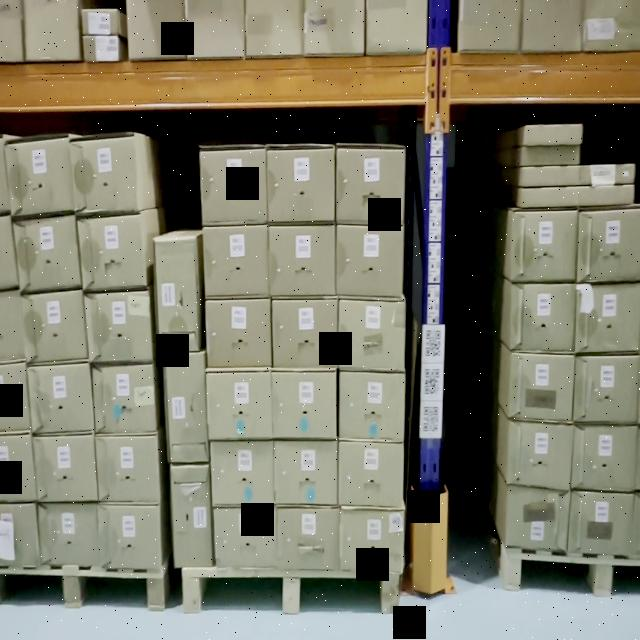box: (268, 150, 334, 220), (165, 355, 208, 460), (202, 152, 266, 222), (337, 152, 402, 220), (578, 210, 640, 280), (75, 136, 133, 210), (271, 228, 335, 294), (339, 228, 401, 296), (339, 301, 404, 365), (81, 222, 146, 286), (340, 372, 402, 439), (206, 302, 270, 366), (574, 358, 638, 422), (206, 228, 266, 296), (160, 238, 196, 350), (273, 303, 336, 367), (512, 286, 575, 350), (274, 372, 336, 436), (276, 441, 338, 505), (94, 367, 156, 431), (210, 372, 270, 438), (90, 293, 148, 361), (11, 145, 72, 209), (34, 362, 89, 432), (23, 217, 75, 291), (515, 214, 575, 278), (578, 285, 638, 349), (100, 506, 160, 570), (514, 355, 572, 420), (212, 443, 273, 503), (342, 510, 402, 570), (36, 438, 96, 498), (277, 511, 339, 569), (340, 445, 402, 502), (576, 427, 633, 489), (572, 492, 628, 554), (100, 437, 156, 499), (508, 428, 572, 482), (217, 508, 274, 568), (25, 298, 83, 356), (510, 488, 564, 550), (176, 466, 208, 566), (43, 504, 95, 562), (0, 504, 34, 564), (0, 434, 30, 501), (0, 362, 25, 430), (1, 294, 20, 359), (524, 125, 582, 144), (524, 190, 578, 207), (578, 188, 634, 204), (522, 146, 578, 162), (581, 168, 634, 184), (523, 168, 579, 182), (0, 218, 11, 285)
